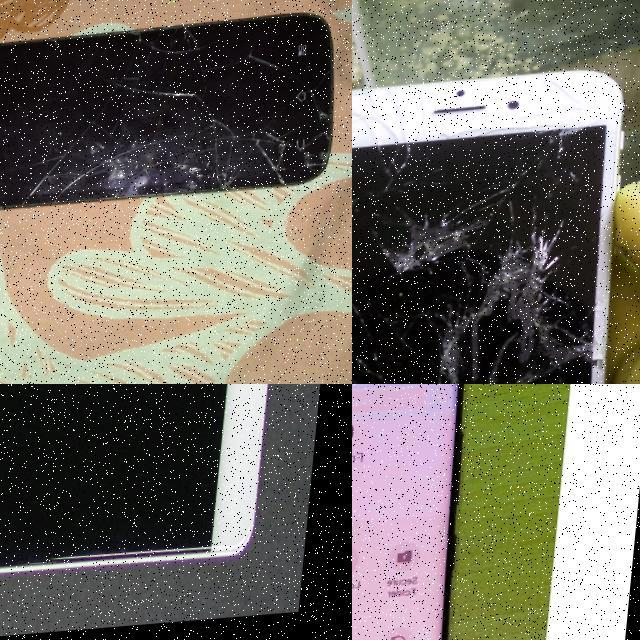screen crack: (0, 10, 352, 227), (352, 126, 640, 384)
